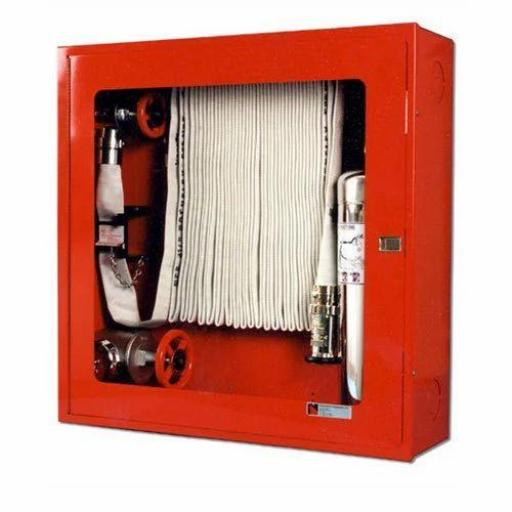fire_hose: (59, 21, 456, 463)
